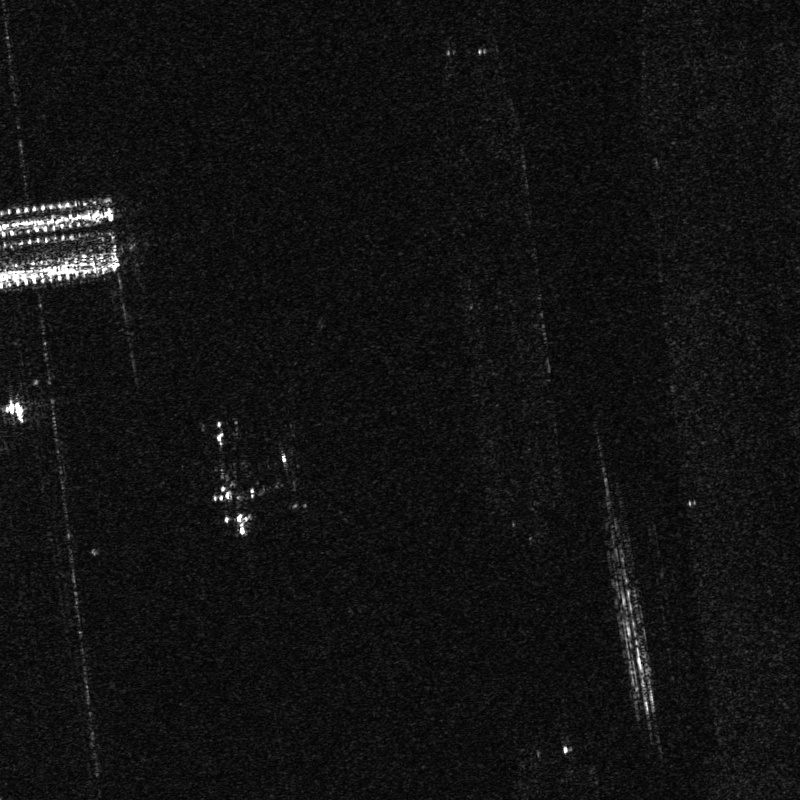Boeing787: (194, 440, 288, 544)
